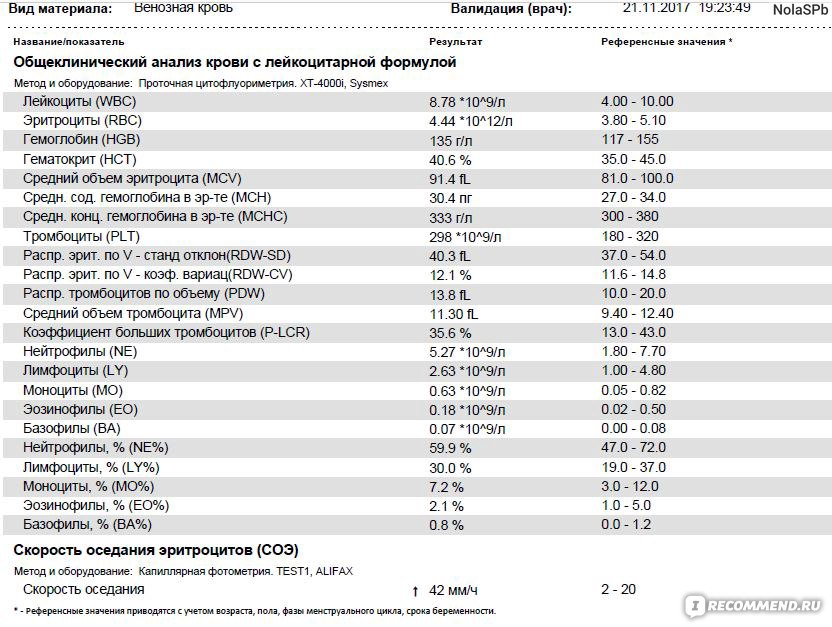column: (22, 94, 310, 531), (428, 94, 513, 531), (600, 94, 674, 531), (22, 583, 144, 595), (601, 37, 725, 47), (13, 37, 124, 47), (428, 583, 477, 595), (429, 37, 483, 47), (600, 583, 637, 595)
